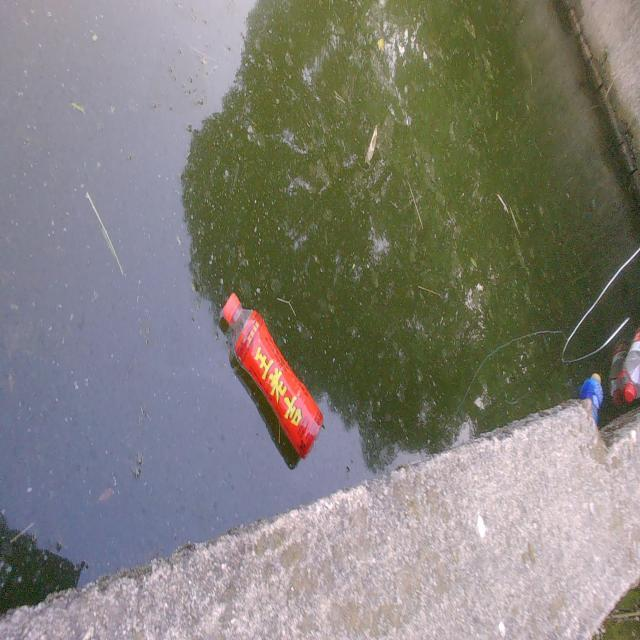bottle: (197, 268, 356, 478), (612, 314, 640, 415), (578, 365, 607, 420)
